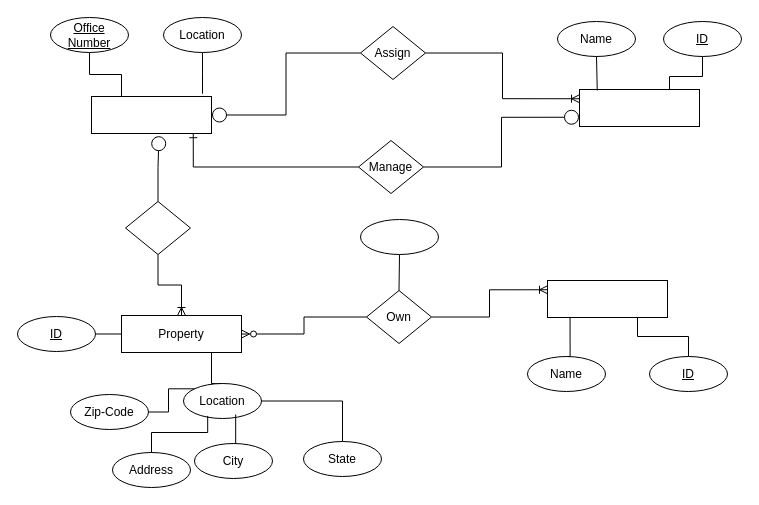
This 759x505 diagram has some shape labels left out. Here are the shapes that lost their labels. From the top down, the centre of each, then its label:
pixel 151 115: Sales Office
pixel 639 107: Employee
pixel 157 227: List
pixel 399 236: Percent
pixel 607 299: Owner
